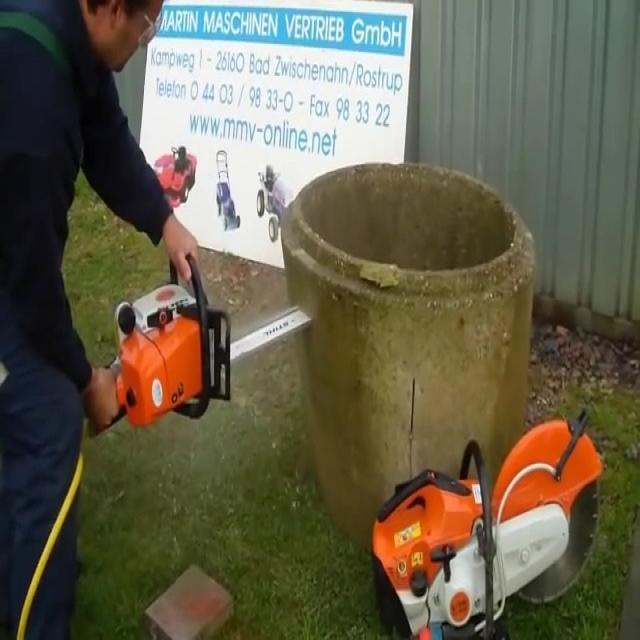Chainsaw: (83, 230, 334, 460)
